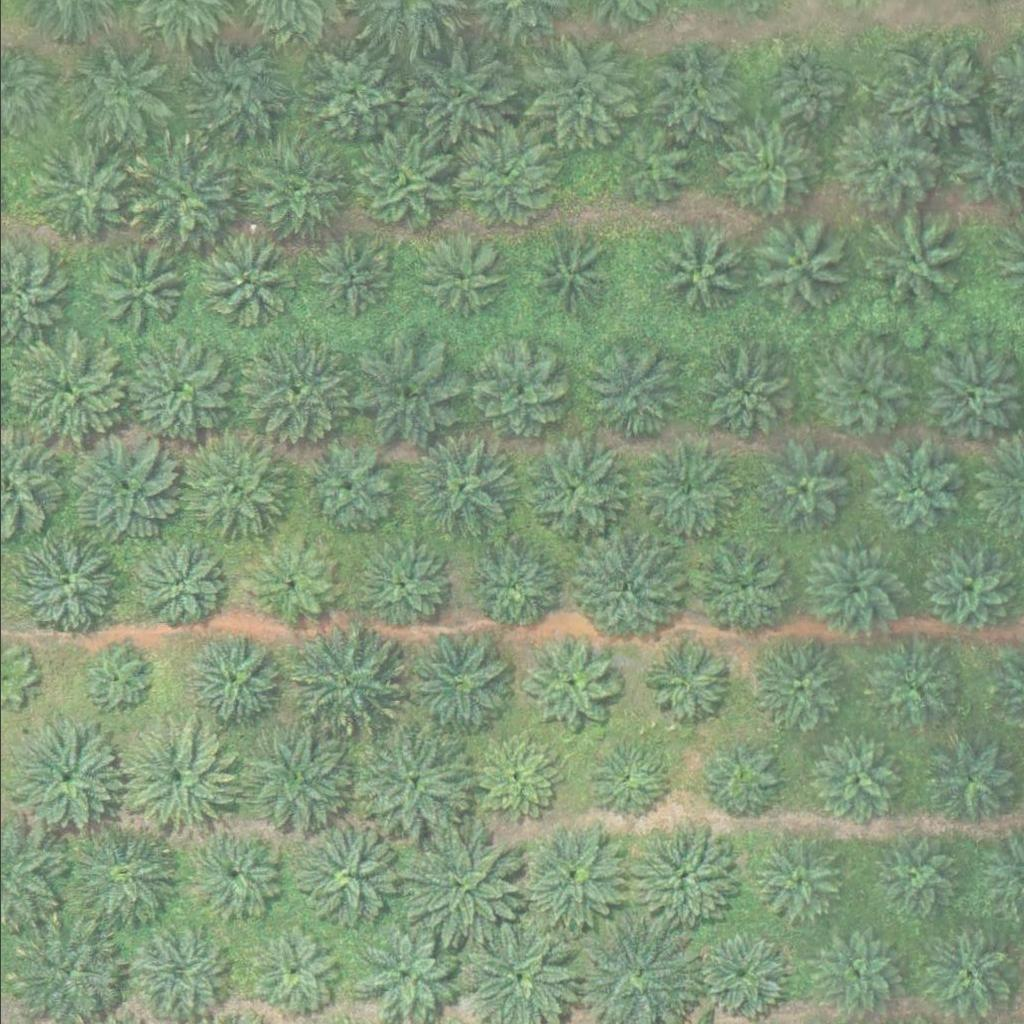Kelapa_Sawit: (515, 433, 629, 546), (569, 533, 683, 646), (399, 630, 513, 743), (286, 622, 400, 735), (883, 38, 996, 151), (522, 39, 635, 152), (235, 339, 348, 452), (116, 334, 229, 447), (178, 628, 291, 741), (116, 720, 229, 833), (627, 819, 740, 932), (511, 820, 624, 933), (5, 722, 118, 835), (12, 332, 125, 445), (354, 728, 468, 840), (242, 725, 356, 837), (174, 822, 288, 934), (62, 819, 176, 931), (56, 36, 170, 148), (800, 535, 913, 647), (398, 39, 511, 151), (180, 36, 293, 148), (228, 140, 341, 252), (356, 339, 469, 451), (409, 432, 522, 544), (178, 429, 291, 541), (405, 829, 518, 941), (292, 823, 405, 935), (6, 531, 119, 643), (65, 431, 178, 543), (124, 137, 237, 249), (920, 731, 1021, 831), (863, 636, 964, 736), (750, 637, 851, 737), (913, 537, 1014, 637), (862, 440, 963, 540), (722, 117, 823, 217), (761, 47, 862, 147), (638, 47, 739, 147), (297, 46, 398, 146), (452, 135, 553, 235), (355, 133, 456, 233), (513, 225, 614, 325), (195, 232, 296, 332), (472, 341, 573, 441), (301, 438, 402, 538), (355, 922, 456, 1022), (86, 238, 187, 338), (816, 344, 916, 444), (694, 344, 794, 444), (861, 215, 961, 315), (747, 219, 847, 319), (833, 115, 933, 215), (586, 349, 686, 449), (638, 441, 738, 541), (464, 535, 564, 635), (350, 535, 450, 635), (518, 632, 618, 732), (28, 141, 128, 241), (812, 928, 900, 1016), (695, 933, 783, 1021), (870, 830, 958, 918), (130, 540, 218, 628), (639, 639, 727, 727), (585, 737, 673, 825), (471, 734, 559, 822), (752, 837, 841, 924), (812, 737, 901, 824), (304, 235, 393, 322), (755, 445, 843, 532), (700, 545, 788, 632), (418, 238, 506, 325), (246, 540, 334, 627), (697, 735, 785, 822), (249, 931, 337, 1018), (657, 239, 733, 314), (613, 134, 688, 209), (82, 651, 145, 714)
